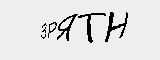З: (39, 23, 47, 39)
Н: (108, 9, 130, 42)
Р: (47, 20, 57, 41)
Т: (78, 10, 107, 44)
Я: (59, 13, 76, 40)
